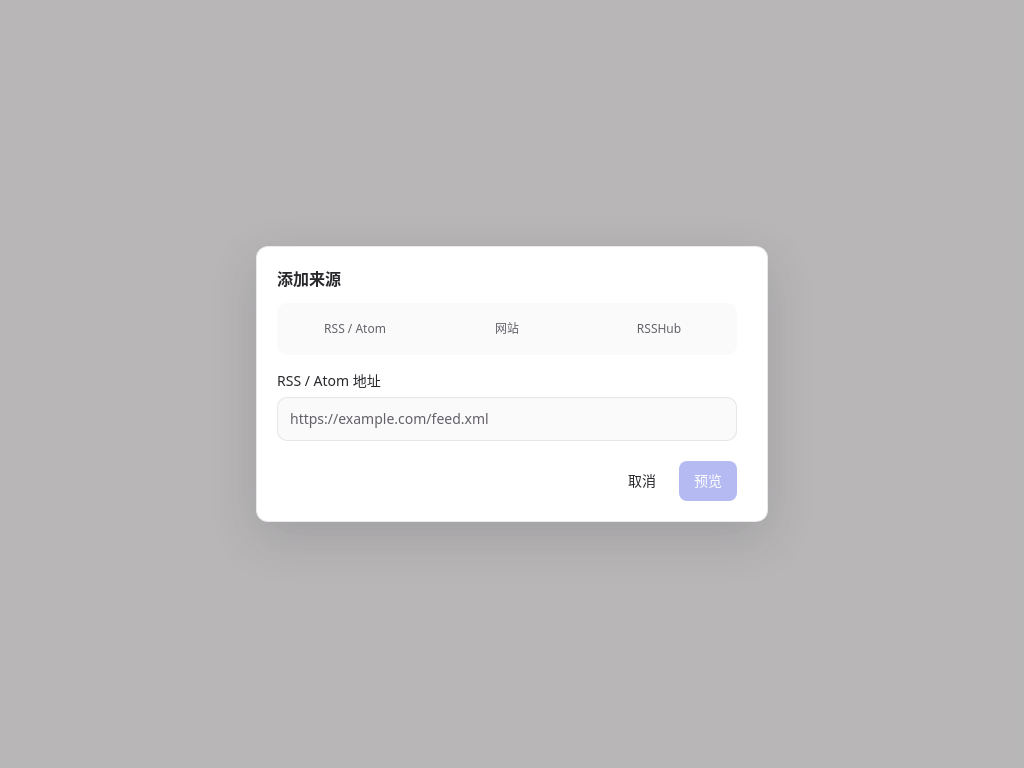
Test: AddSourceDialog — 网站发现 › 切换到网站 tab：URL 输入 + 诚实说明
What coordinates should you click on to do the following:
click the tab "网站"
I would click on:
 (507, 329)
Its box is left=433, top=307, right=581, bottom=351.
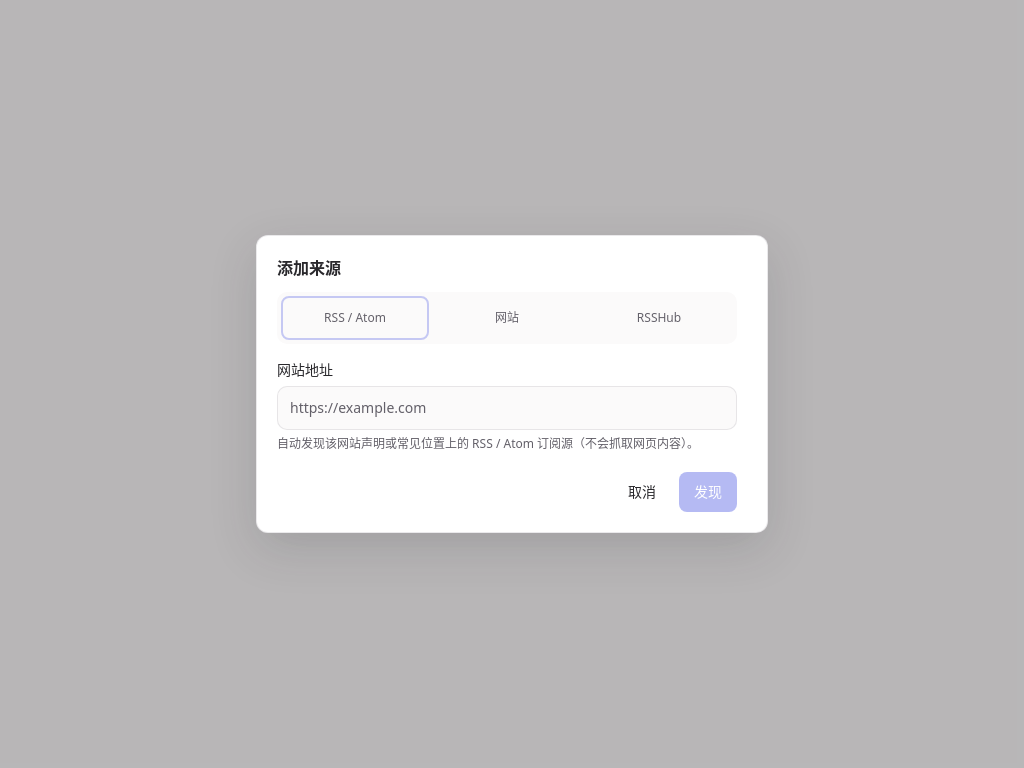
Check: the field labelled "网站地址" is shown, box left=277, top=386, right=737, bottom=430
Check: the text "自动发现该网站声明或常见位置上的 RSS / Atom 订阅源（不会抓取网页内容）。" is shown, box left=277, top=436, right=737, bottom=452
Check: the label labelled "RSS / Atom 地址" is gone
